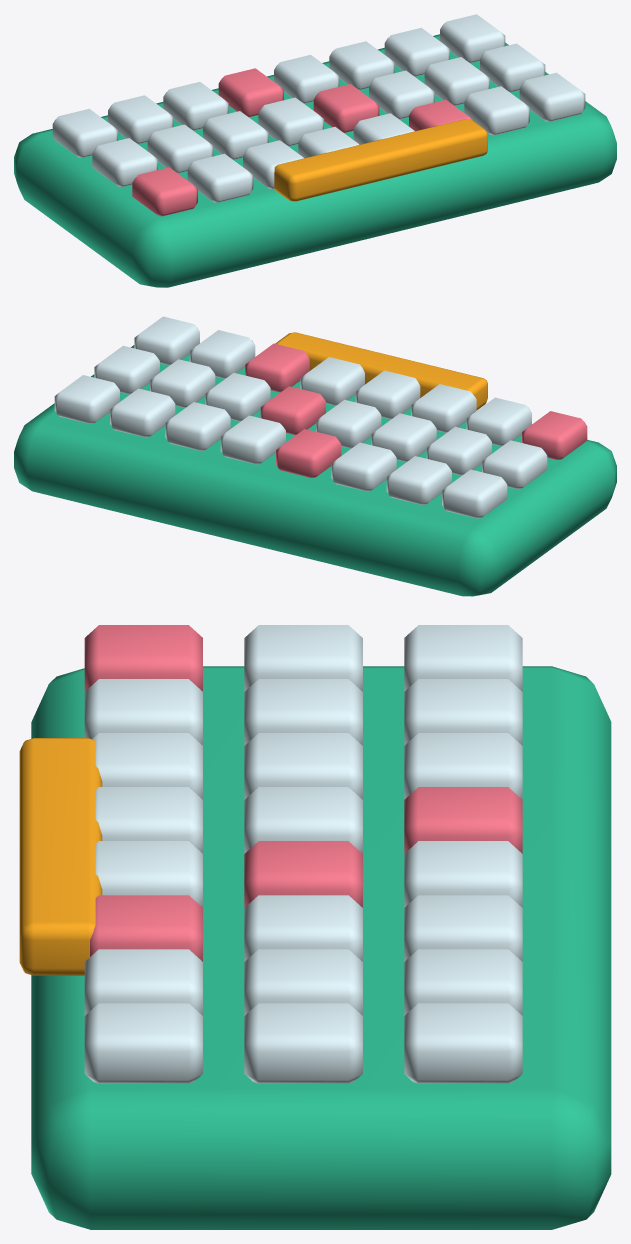
The model's file is keyboard.glb.
The picture shows the model from 3 angles, top to bottom: view 1: azimuth 30°, elevation 25°; view 2: azimuth 150°, elevation 25°; view 3: azimuth 270°, elevation 25°; orthographic projection. The views are drawn at different scales.
Visible parts, largest first — view 1: keyboard; view 2: keyboard; view 3: keyboard.
Boxes of the visible parts, x1,y1,x2,y2 form: keyboard: [14, 14, 616, 287]; keyboard: [14, 316, 616, 596]; keyboard: [19, 625, 611, 1229].
Size of the model in its own units: 1 by 0.1862 by 0.5319.
Materials: 1 (1 with a texture image).
